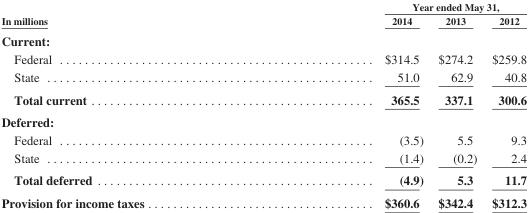table: (0, 0, 525, 209)
table column: (0, 0, 263, 209), (263, 0, 430, 209), (430, 0, 483, 209), (483, 0, 525, 209)
table column header: (0, 0, 525, 29)
table projected row header: (0, 29, 525, 49), (0, 110, 525, 130)
table row: (0, 87, 525, 110), (0, 168, 525, 191), (0, 29, 525, 49), (0, 67, 525, 87), (0, 110, 525, 130), (0, 148, 525, 168), (0, 49, 525, 67), (0, 130, 525, 148), (0, 191, 525, 209), (0, 13, 525, 29), (0, 0, 525, 13)
table spanning cell: (0, 0, 263, 29), (263, 0, 525, 13)
